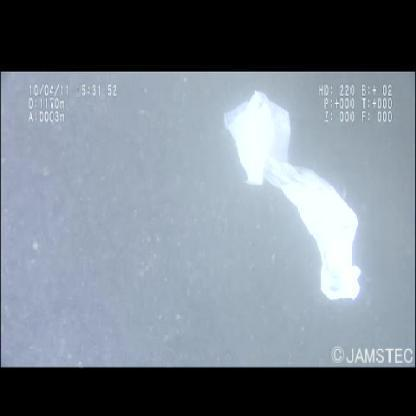Rác: (224, 93, 362, 302)
